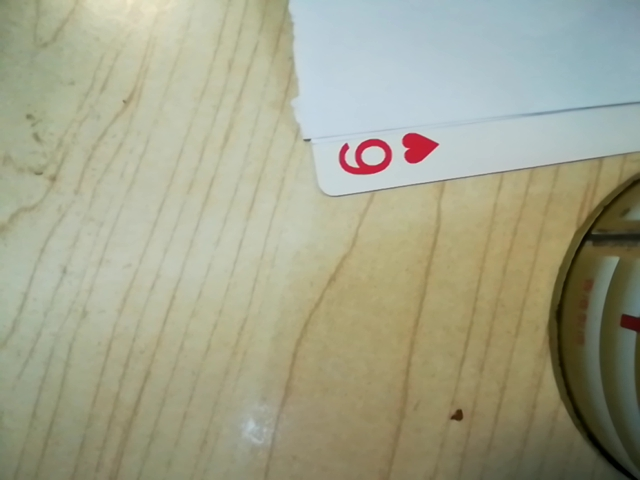hx 6: (321, 127, 430, 187)
